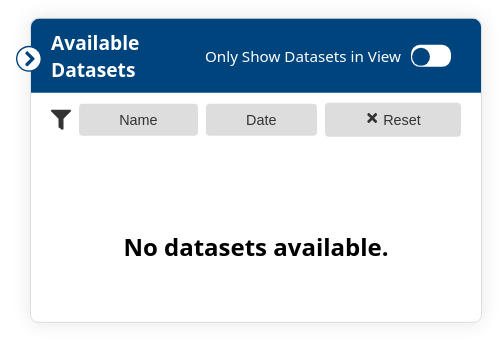
Test: Test AvailableDatasets component › should fetch datasets only when toggled on
Click the button with test id "filter-button-Name" at x=138, y=120, box [79,104,198,136]
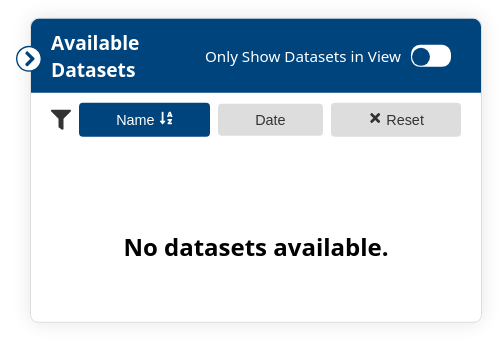
Click the switch with test id "toggle-button" at x=431, y=56, box [409,43,453,69]
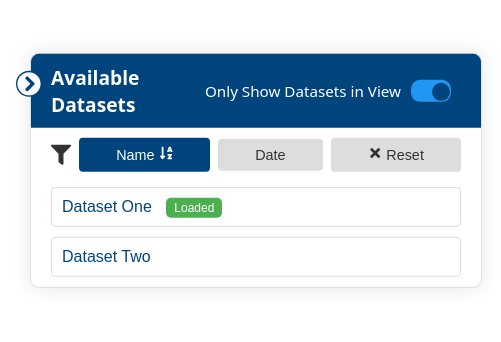
Expected: the checkbox with test id "toggle-checkbox" is checked, [203,78,471,104]
